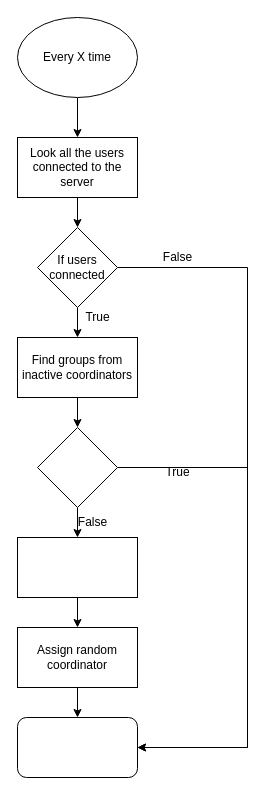
Image size: 273x795. Some labels were removed from this diagram. The centre of each missing label's shape, as x and y in pixels:
"Fininish" belongs at pixel 77 747.
"Get active members from each group chat" belongs at pixel 77 567.
"If all coordinators active" belongs at pixel 77 467.
